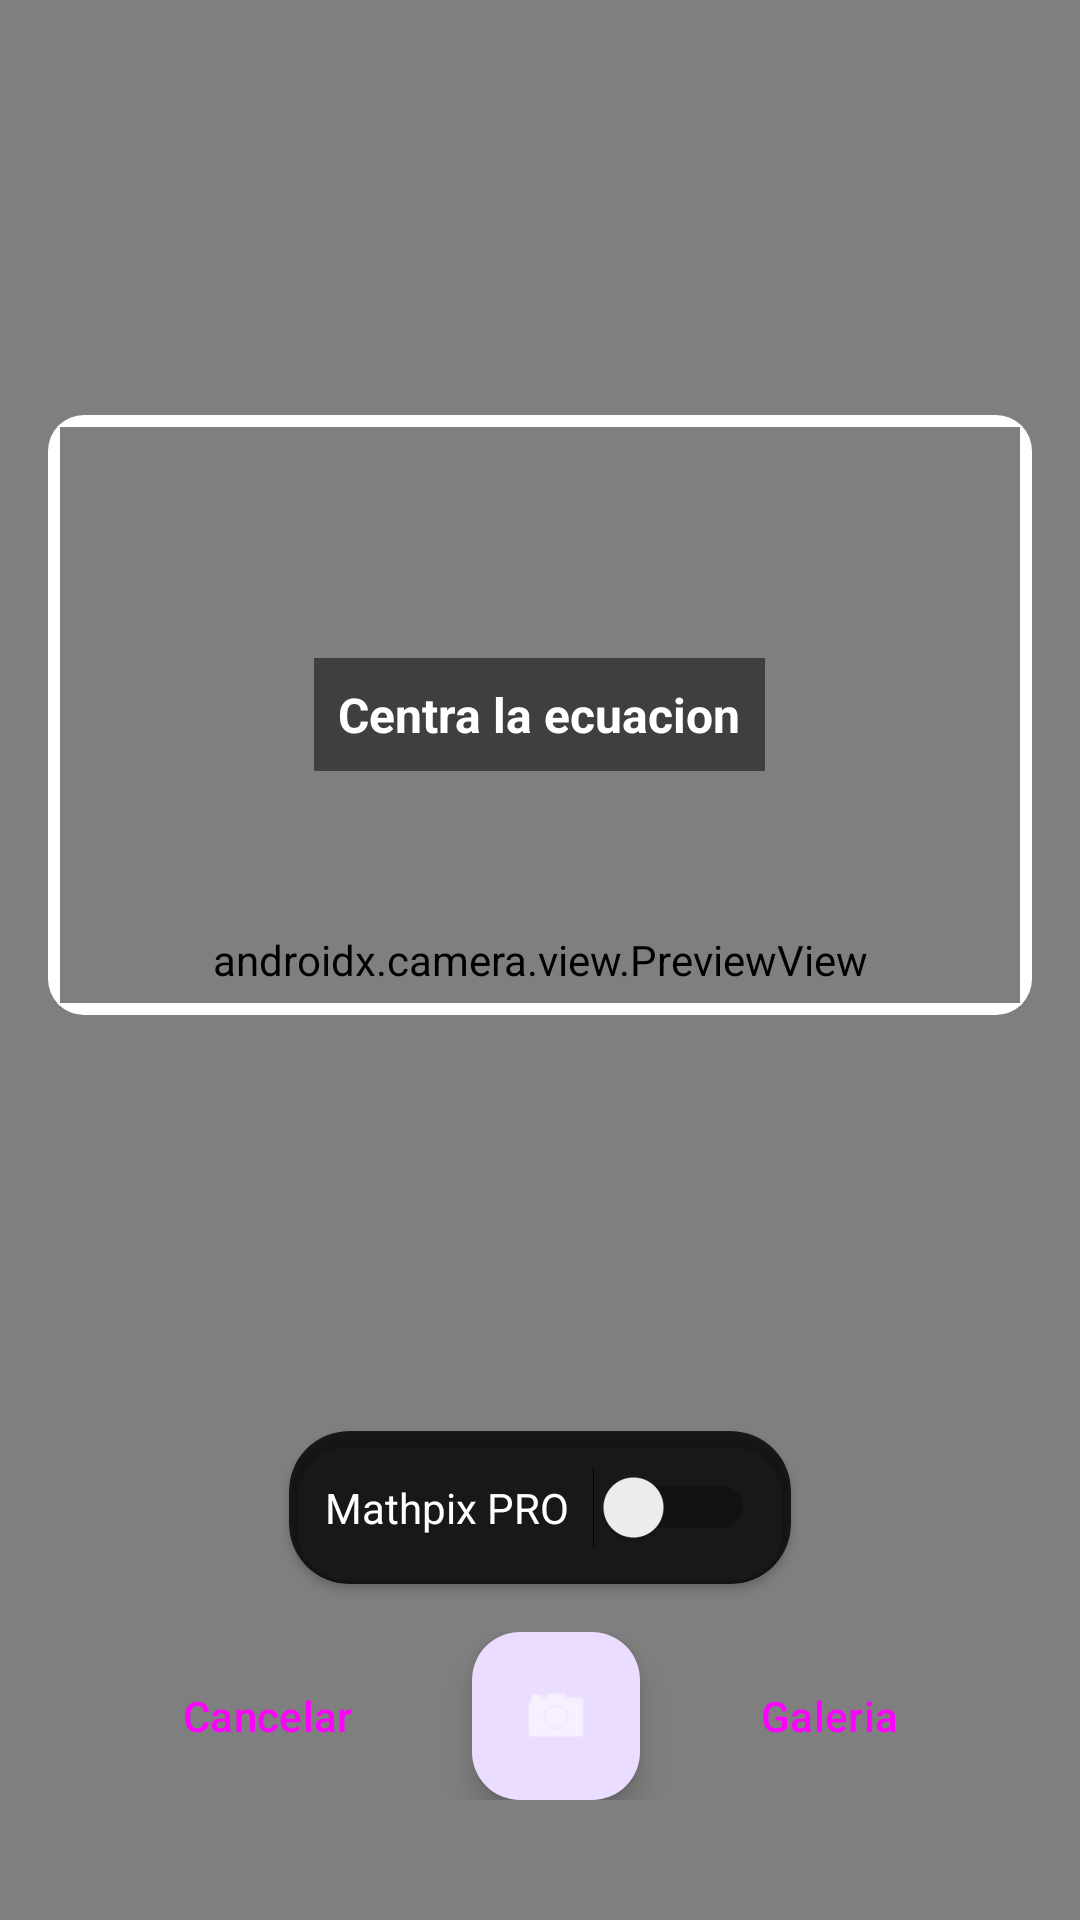

Named icons in this screenshot (1080 × 1920) and their centers, point (x, y):
Capturar: point (556, 1716)
